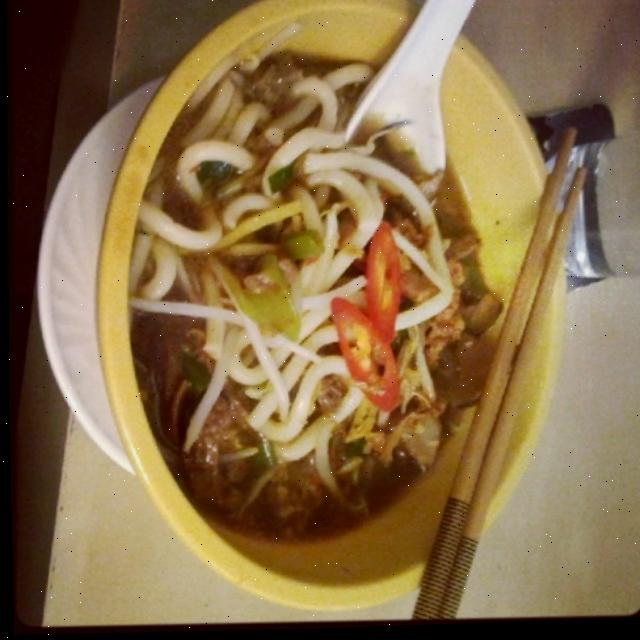面条主食: (40, 0, 574, 629)
